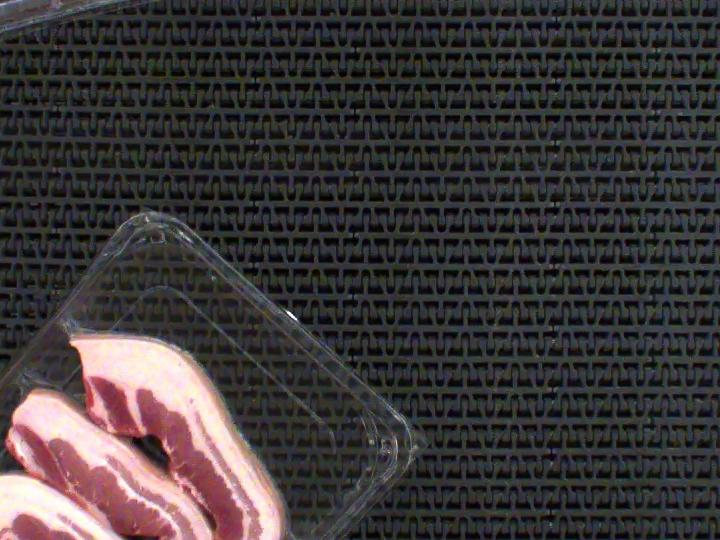packaging-error: (0, 360, 80, 407), (37, 302, 115, 348), (248, 508, 336, 540)
